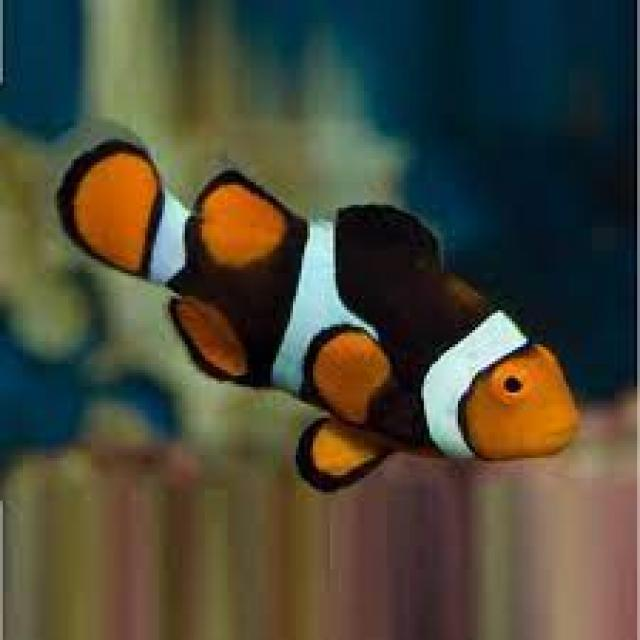ClownFish: (57, 132, 577, 492)
